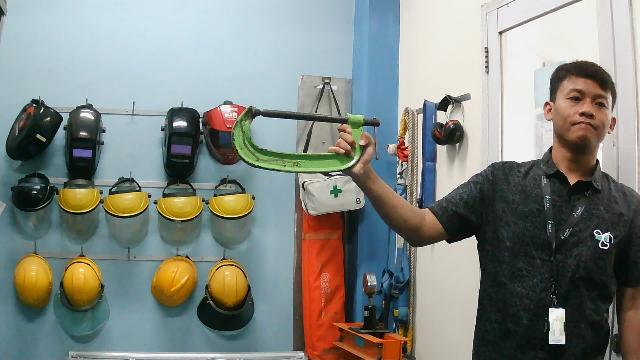tekiro_c_clamp: (231, 100, 385, 176)
